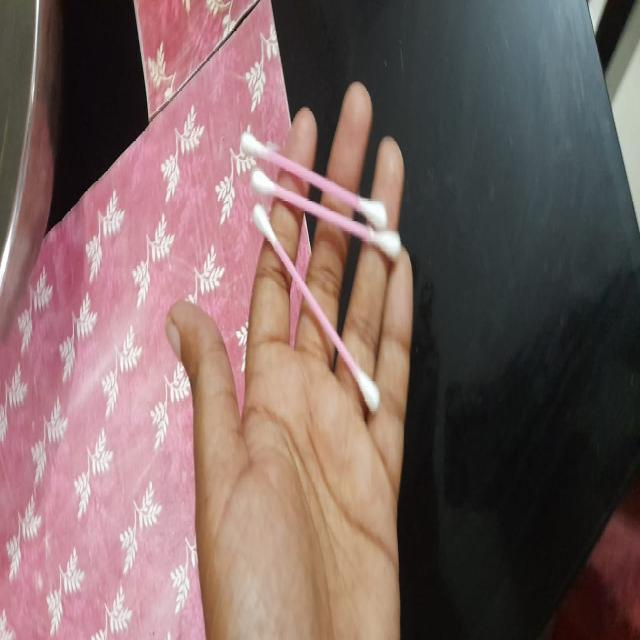Earbud - Non Recyclable: (239, 125, 399, 418)
